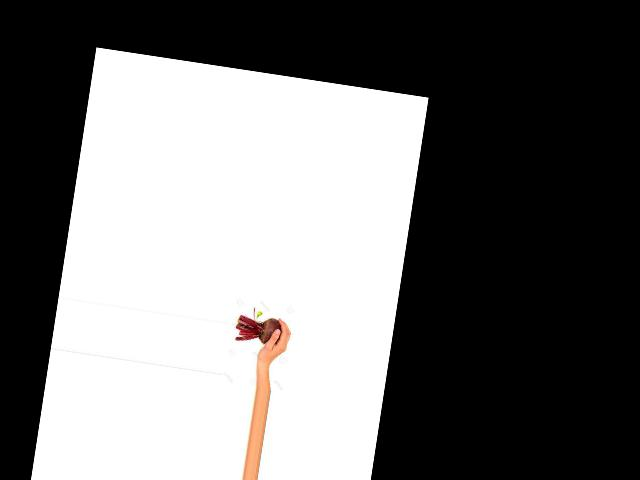beet: (234, 304, 284, 346)
